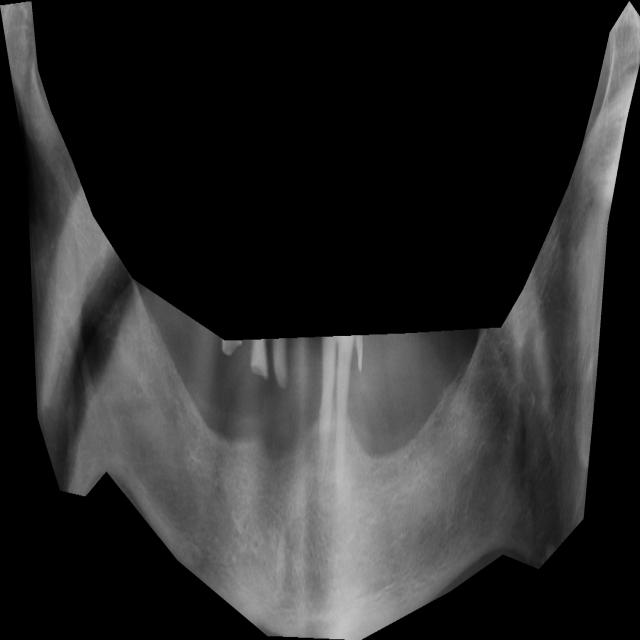mandibula: (0, 1, 640, 640)
